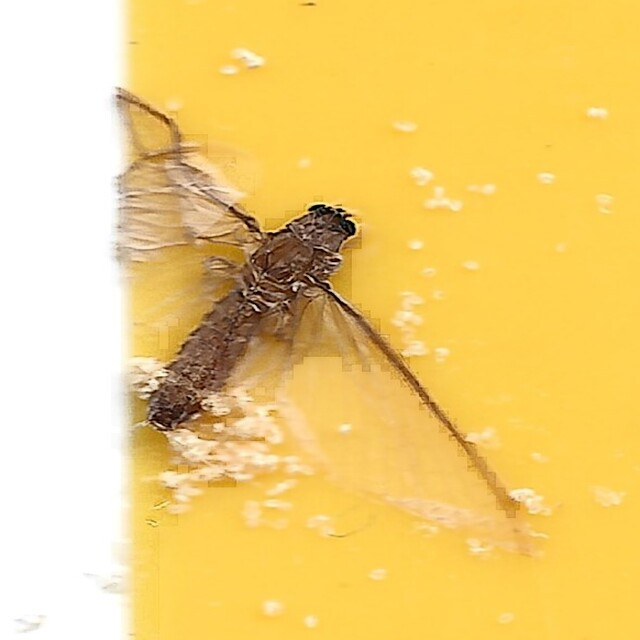Ephemeroptera: (110, 88, 530, 552)
